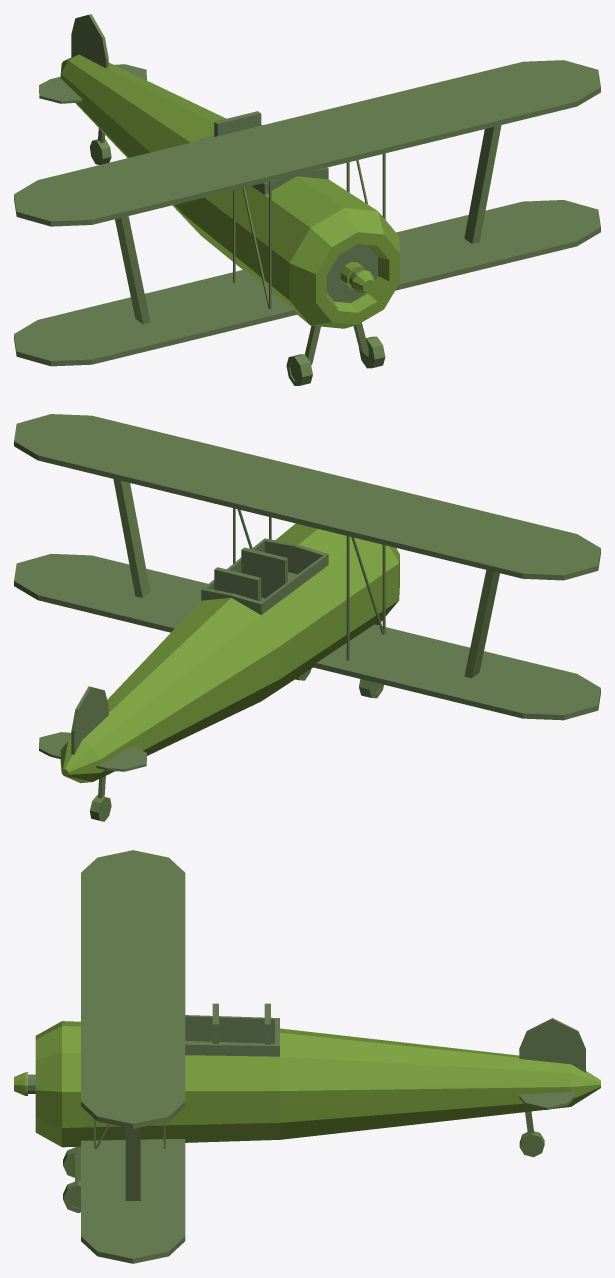
3 renders of one model, top to bottom at view 1: azimuth 30°, elevation 25°; view 2: azimuth 150°, elevation 25°; view 3: azimuth 270°, elevation 25°, orthographic. The views are drawn at different scales.
Visible parts, largest first — view 1: Plane_03; view 2: Plane_03; view 3: Plane_03.
Part boxes in pixels (box(x1,y1,x2,y2)): Plane_03: box(14, 14, 600, 385); Plane_03: box(14, 414, 600, 821); Plane_03: box(14, 850, 600, 1263).
Size of the model in its own units: 6.42 by 2.26 by 5.81.
